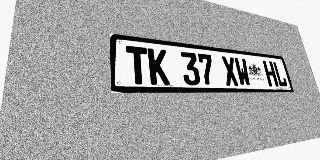3: (180, 52, 201, 85)
7: (196, 53, 216, 86)
H: (262, 61, 279, 87)
K: (147, 48, 170, 85)
L: (272, 62, 288, 87)
T: (126, 46, 150, 85)
W: (234, 57, 252, 86)
X: (221, 56, 239, 86)
